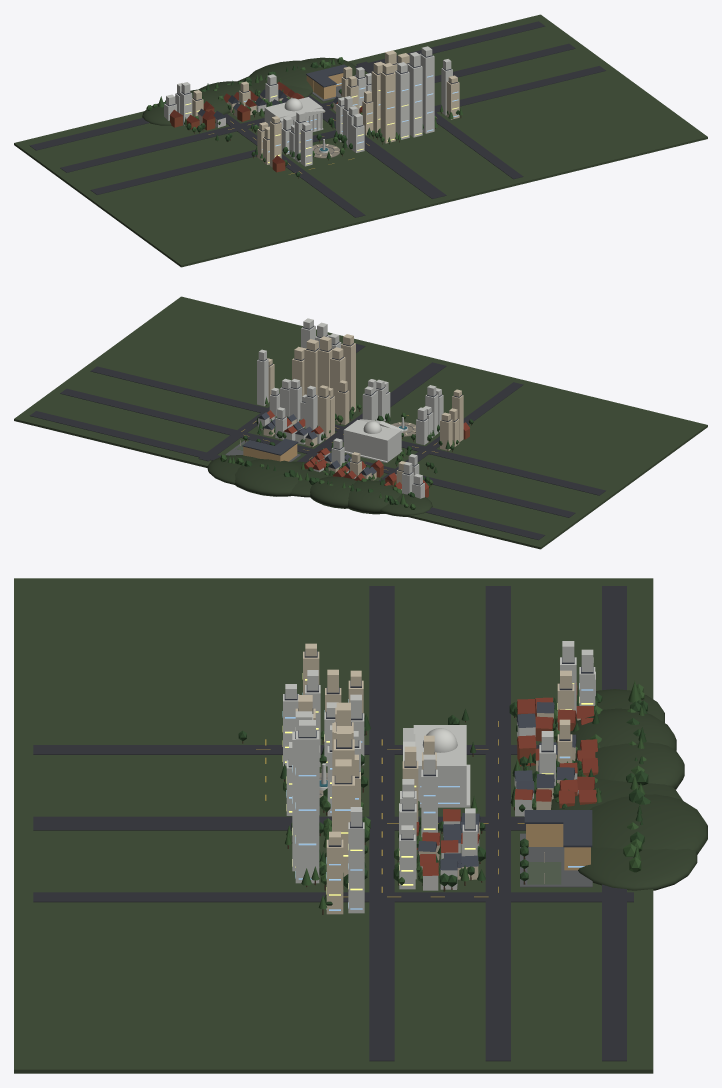
File: maquette-ville-1.glb
3 renders of one model, top to bottom at view 1: azimuth 30°, elevation 25°; view 2: azimuth 150°, elevation 25°; view 3: azimuth 270°, elevation 25°, orthographic. The views are drawn at different scales.
Parts seen in each view (by area): view 1: ground_plate, avenue_z1, avenue_z2, avenue_z0, rue_x3, hill_8, rue_x2, tower_shaft_1, rue_x4, tower_shaft_7, tower_shaft_5, tower_shaft_3 (+6 smaller); view 2: ground_plate, avenue_z1, avenue_z2, avenue_z0, hill_8, civic_body, hill_5, rue_x3, hill_6, rue_x2, hill_9, hill_4 (+9 smaller); view 3: ground_plate, avenue_z1, avenue_z2, avenue_z0, rue_x4, hill_8, rue_x3, hill_9, tower_shaft_7, rue_x2, hill_6, hill_5 (+12 smaller).
Boxes of the visible parts, box(x1,y1,x2,y2) form: ground_plate: box(14, 14, 707, 267); avenue_z1: box(60, 43, 575, 172); avenue_z2: box(90, 66, 605, 194); avenue_z0: box(29, 21, 545, 150); rue_x3: box(306, 95, 446, 198); hill_8: box(248, 60, 323, 91); rue_x2: box(224, 113, 365, 217); tower_shaft_1: box(380, 72, 395, 143); rue_x4: box(356, 61, 523, 179); tower_shaft_7: box(419, 53, 434, 133); tower_shaft_5: box(407, 64, 422, 137); tower_shaft_3: box(395, 70, 409, 139); ground_plate: box(14, 296, 707, 549); avenue_z1: box(60, 388, 575, 517); avenue_z2: box(90, 366, 605, 495); avenue_z0: box(30, 411, 545, 540); hill_8: box(235, 459, 300, 496); civic_body: box(343, 420, 401, 461); hill_5: box(348, 480, 401, 514); rue_x3: box(297, 362, 446, 462); hill_6: box(310, 476, 356, 508); rue_x2: box(379, 382, 523, 481); hill_9: box(207, 455, 259, 484); hill_4: box(380, 493, 432, 516); ground_plate: box(14, 578, 653, 1073); avenue_z1: box(485, 586, 510, 1061); avenue_z2: box(369, 586, 394, 1061); avenue_z0: box(602, 586, 626, 1061); rue_x4: box(33, 892, 633, 902); hill_8: box(590, 794, 707, 854); rue_x3: box(33, 816, 525, 830); hill_9: box(578, 847, 697, 890); tower_shaft_7: box(295, 731, 319, 883); rue_x2: box(33, 745, 557, 754); hill_6: box(575, 742, 684, 789); hill_5: box(570, 708, 676, 758).
Size of the model in its own units: 240 by 40.15 by 143.
